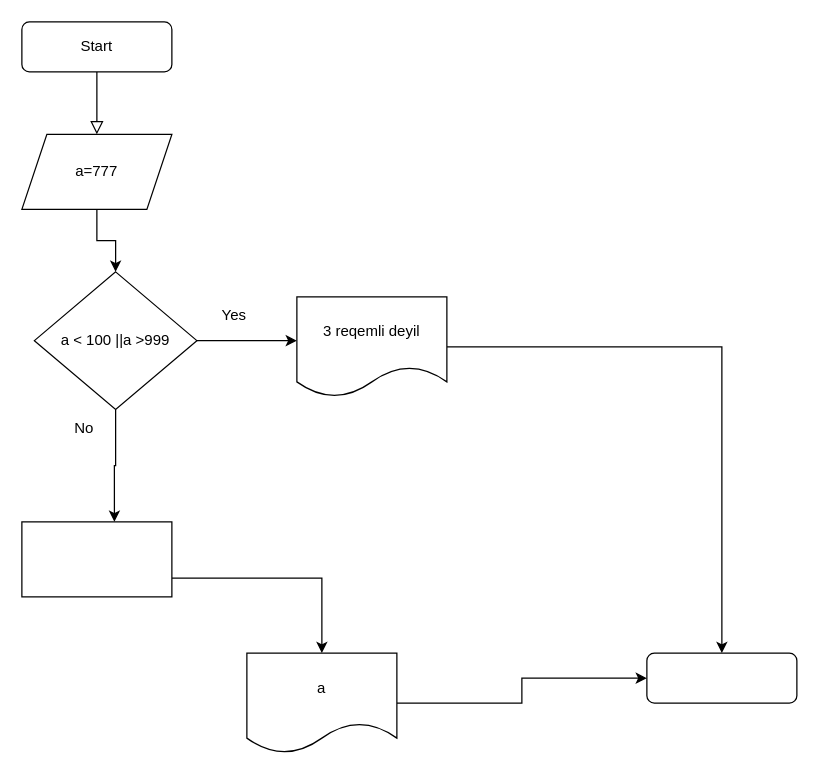
Some shapes in this 819 by 775 pixel diagram are drawn without their labels. The shapes that lost their labels are listed below. From the top down, each one's box as (x1, y1, x2, y2) in pixels, then its label:
(21, 521, 172, 597): a = a * 1000 + a
(646, 652, 797, 703): End
